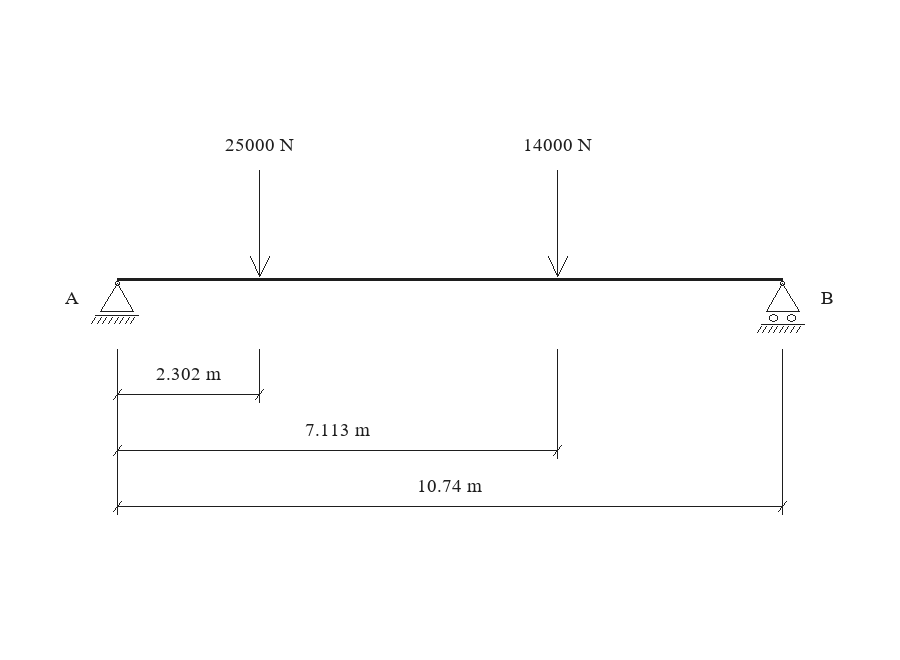pin_support: (91, 281, 139, 324)
point_load: (250, 170, 270, 277), (548, 170, 568, 277)
roller_support: (757, 281, 805, 333)
